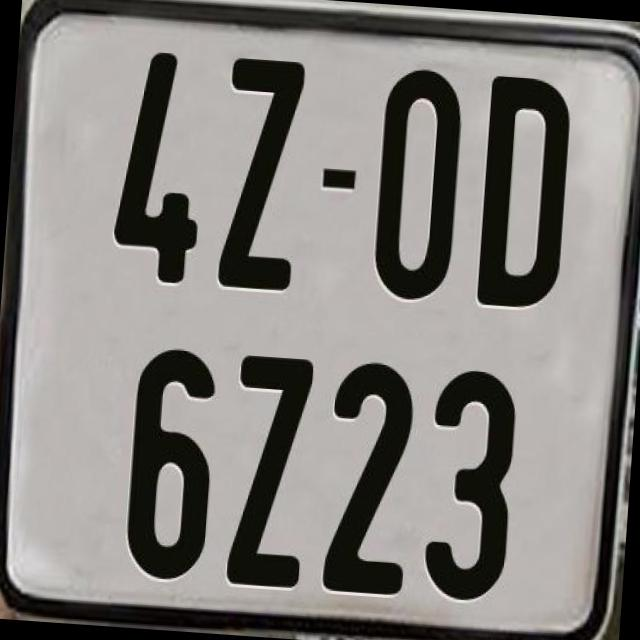0: (366, 64, 466, 304)
2: (320, 358, 420, 602)
3: (418, 364, 521, 604)
4: (110, 45, 216, 286)
6: (120, 346, 224, 588)
D: (475, 75, 579, 312)
Z: (212, 54, 308, 298), (224, 353, 316, 587)
